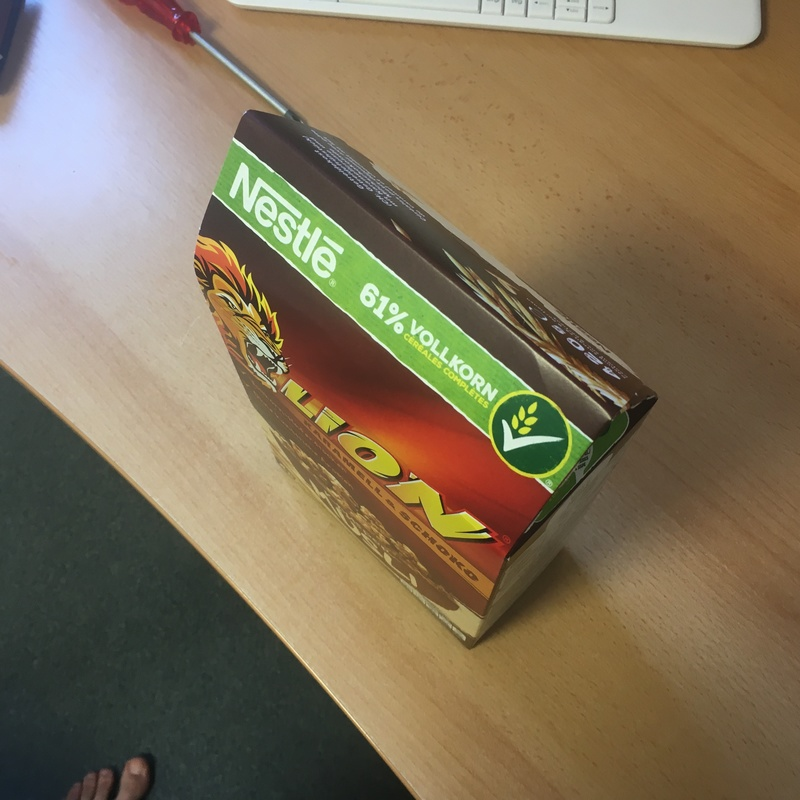cereals: (193, 110, 660, 651)
